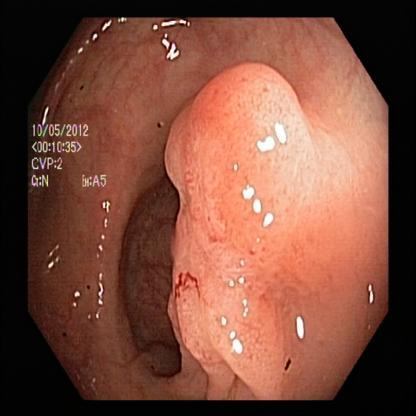Labels: (29, 121, 111, 200)
Polyps: (169, 65, 319, 355)
